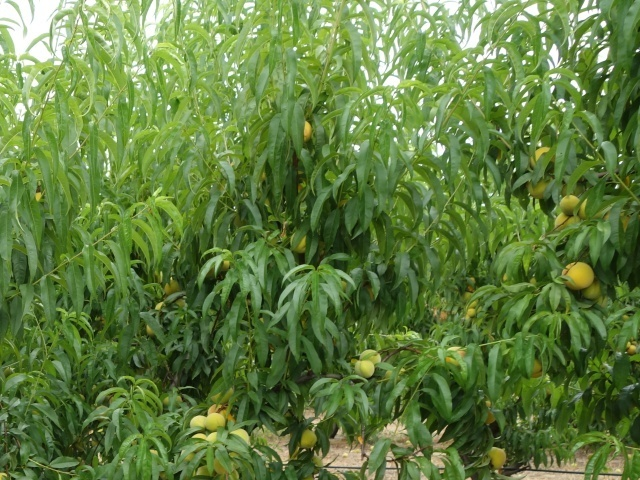peach: (560, 257, 596, 293), (521, 174, 554, 201), (484, 444, 510, 473), (203, 409, 228, 436), (294, 426, 319, 452), (581, 274, 603, 302), (185, 411, 211, 434), (351, 357, 377, 380), (557, 191, 580, 216), (357, 346, 384, 367)
